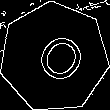O_SW: (22, 24, 86, 90)
